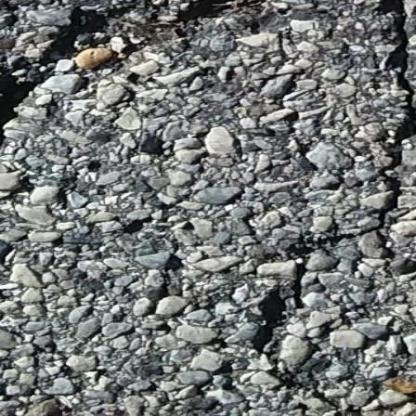Cracks: (0, 0, 291, 163), (232, 209, 416, 416), (359, 0, 416, 289)
